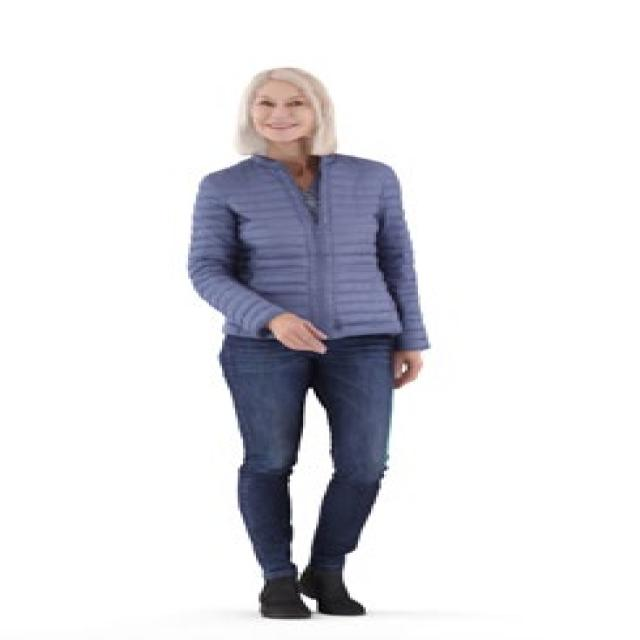standing: (183, 64, 436, 623)
